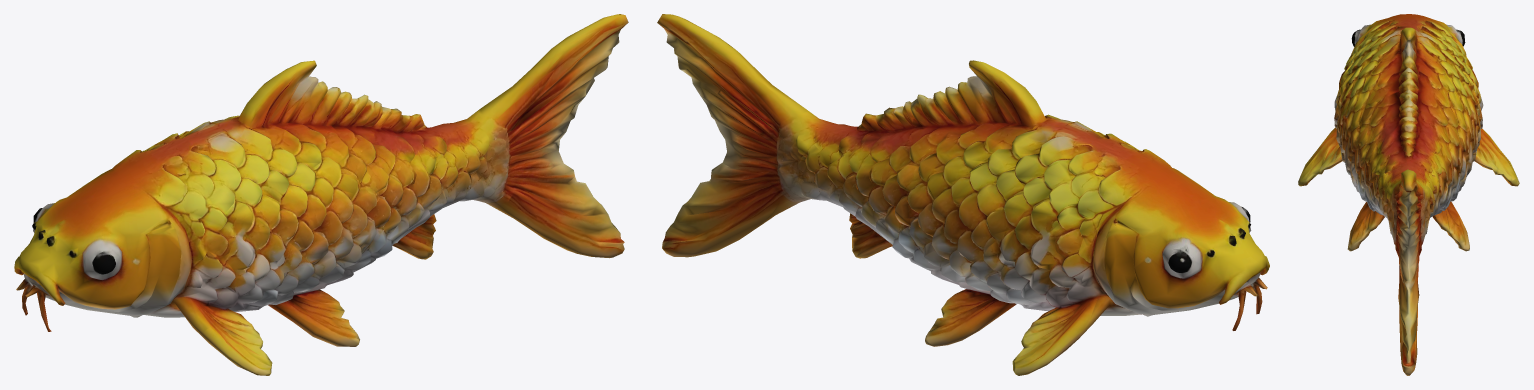
The model's file is fish-koi.glb.
3 renders of one model, left to right at view 1: azimuth 30°, elevation 25°; view 2: azimuth 150°, elevation 25°; view 3: azimuth 270°, elevation 25°, orthographic. The views are drawn at different scales.
Visible parts, largest first — view 1: tripo_node_8c5d614a-03b8-4f29-b101-73490f9176ae; view 2: tripo_node_8c5d614a-03b8-4f29-b101-73490f9176ae; view 3: tripo_node_8c5d614a-03b8-4f29-b101-73490f9176ae.
Boxes of the visible parts, x1,y1,x2,y2 form: tripo_node_8c5d614a-03b8-4f29-b101-73490f9176ae: (14,14,628,375); tripo_node_8c5d614a-03b8-4f29-b101-73490f9176ae: (657,14,1269,375); tripo_node_8c5d614a-03b8-4f29-b101-73490f9176ae: (1298,14,1519,375).
Bounding box in the file's own units: 0.9999 × 0.4253 × 0.3883.
Materials: 1 (1 with a texture image).
